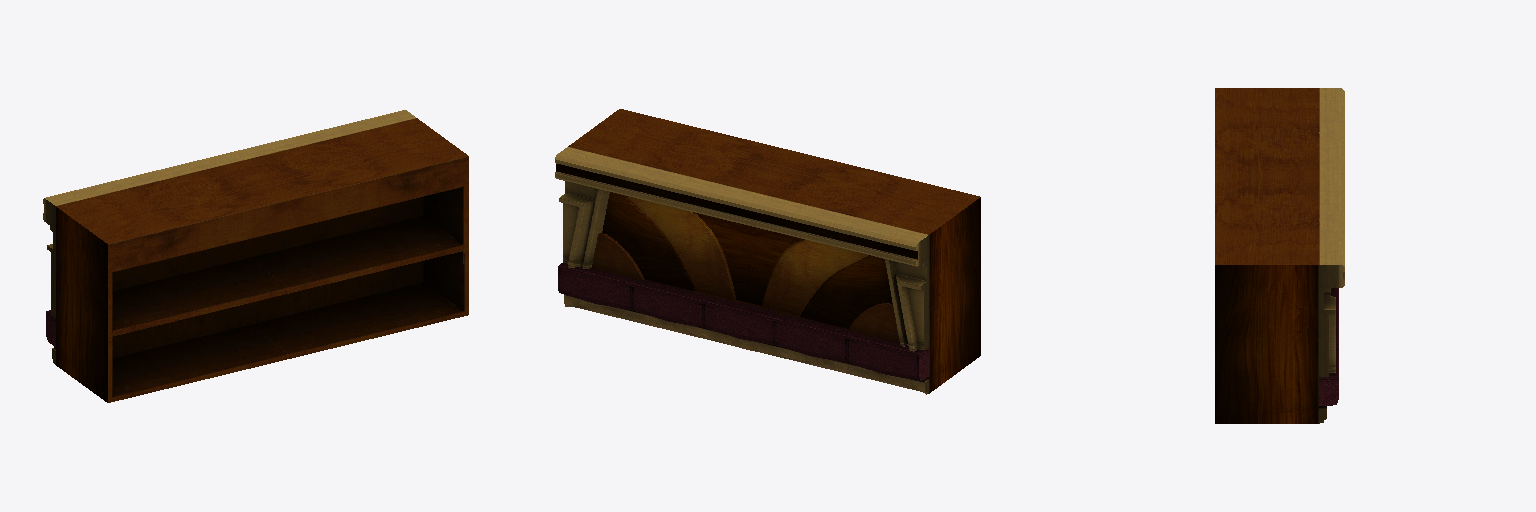
The picture shows the model from 3 angles: view 1: azimuth 30°, elevation 25°; view 2: azimuth 150°, elevation 25°; view 3: azimuth 270°, elevation 25°; orthographic projection.
Visible parts, largest first — view 1: EDU_Restaurant_barcounterStraight256; view 2: EDU_Restaurant_barcounterStraight256; view 3: EDU_Restaurant_barcounterStraight256.
Boxes of the visible parts, x1,y1,x2,y2 form: EDU_Restaurant_barcounterStraight256: [43, 110, 468, 402]; EDU_Restaurant_barcounterStraight256: [555, 109, 980, 394]; EDU_Restaurant_barcounterStraight256: [1215, 88, 1344, 423].
Size of the model in its own units: 256 by 108 by 80.14.
1 materials, 1 textured.